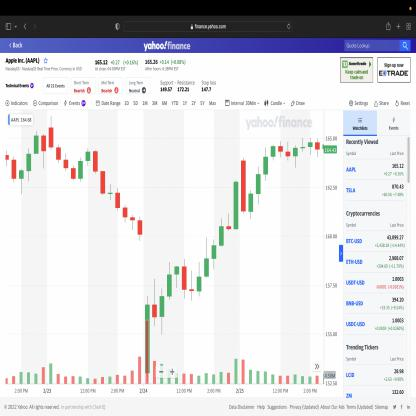Bearish: Tweezer Top: (33, 130, 47, 172)
